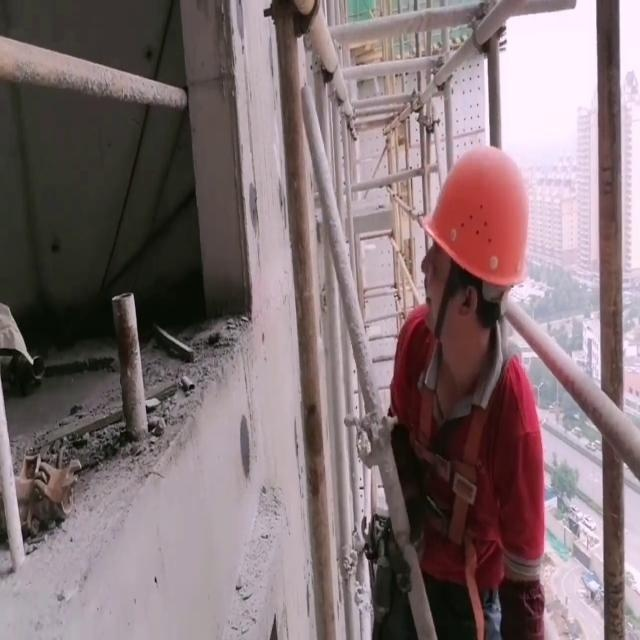Arnes_seguridad: (393, 301, 527, 574)
